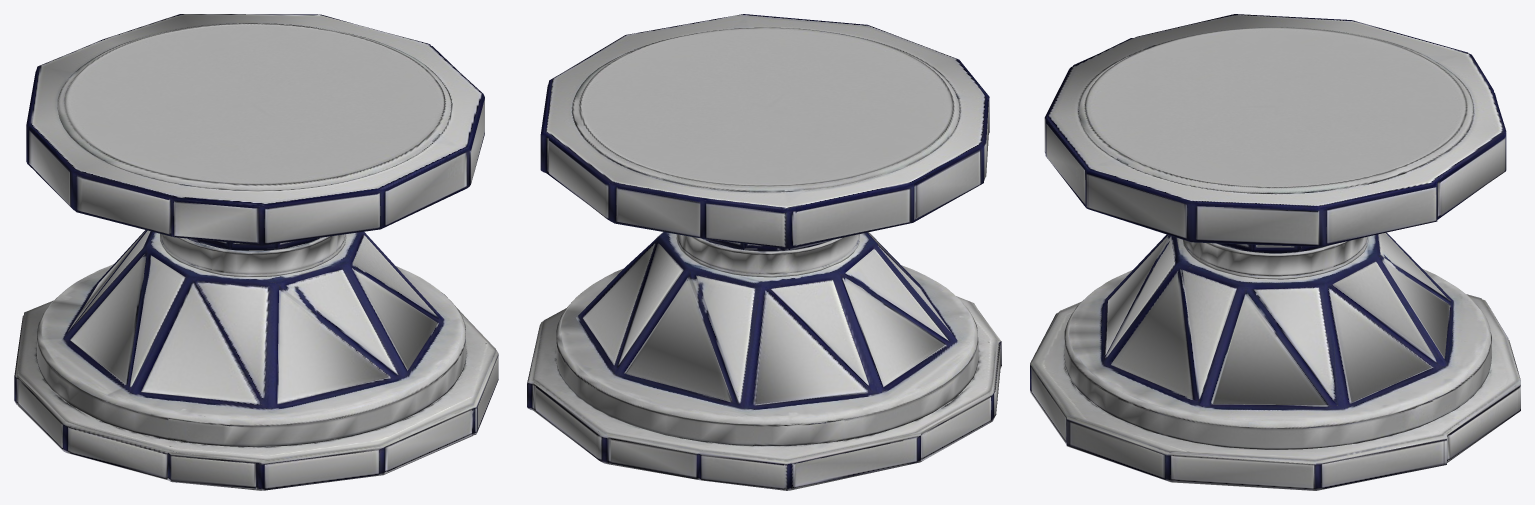
The model's file is tripo_convert_699e4c02-f0d7-42a3-b01f-8b9a9e087de4.fbx.
The picture shows the model from 3 angles, left to right: view 1: azimuth 30°, elevation 25°; view 2: azimuth 150°, elevation 25°; view 3: azimuth 270°, elevation 25°; orthographic projection.
Visible parts, largest first — view 1: tripo_node_699e4c02; view 2: tripo_node_699e4c02; view 3: tripo_node_699e4c02.
Boxes of the visible parts, x1=… form: tripo_node_699e4c02: x1=14, y1=14, x2=498, y2=490; tripo_node_699e4c02: x1=527, y1=14, x2=1001, y2=490; tripo_node_699e4c02: x1=1030, y1=14, x2=1520, y2=490.
Size of the model in its own units: 0.9824 by 0.6348 by 0.998.
1 material, 1 textured.
